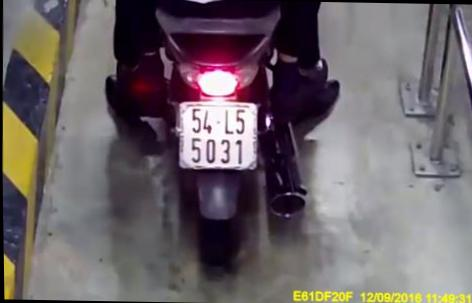LP: (177, 102, 258, 170)
